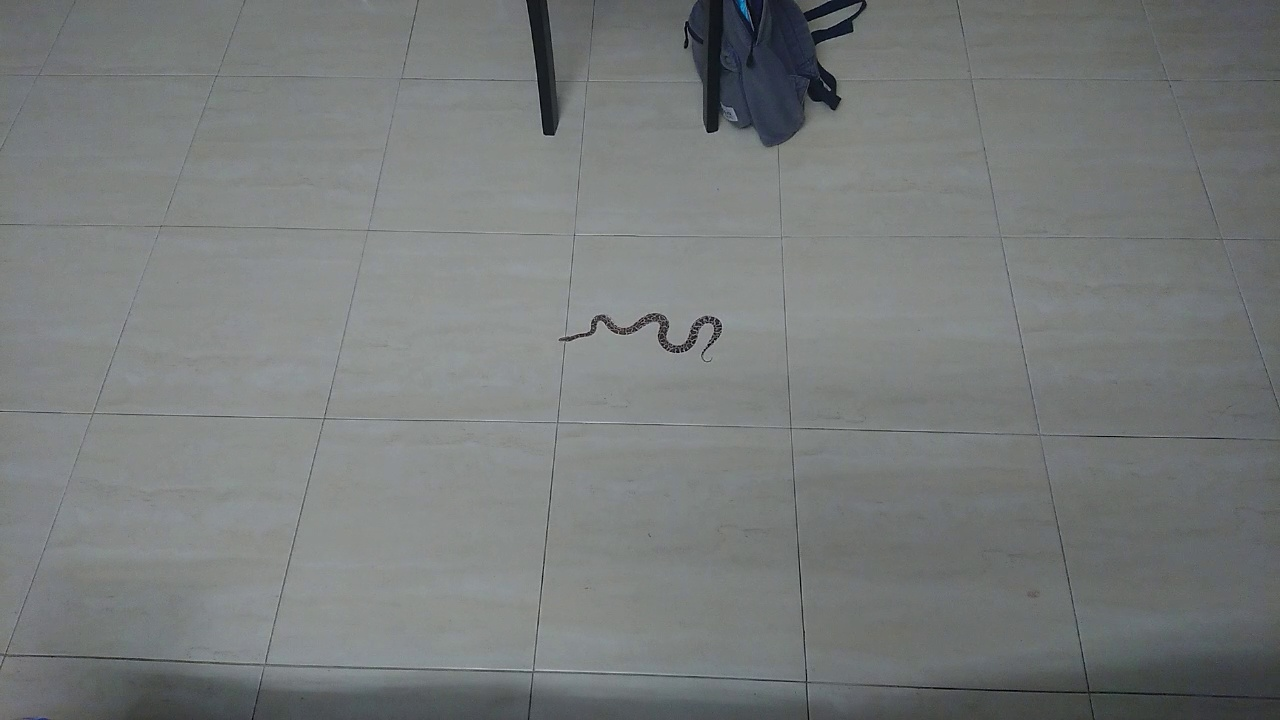snake: (543, 301, 743, 371)
